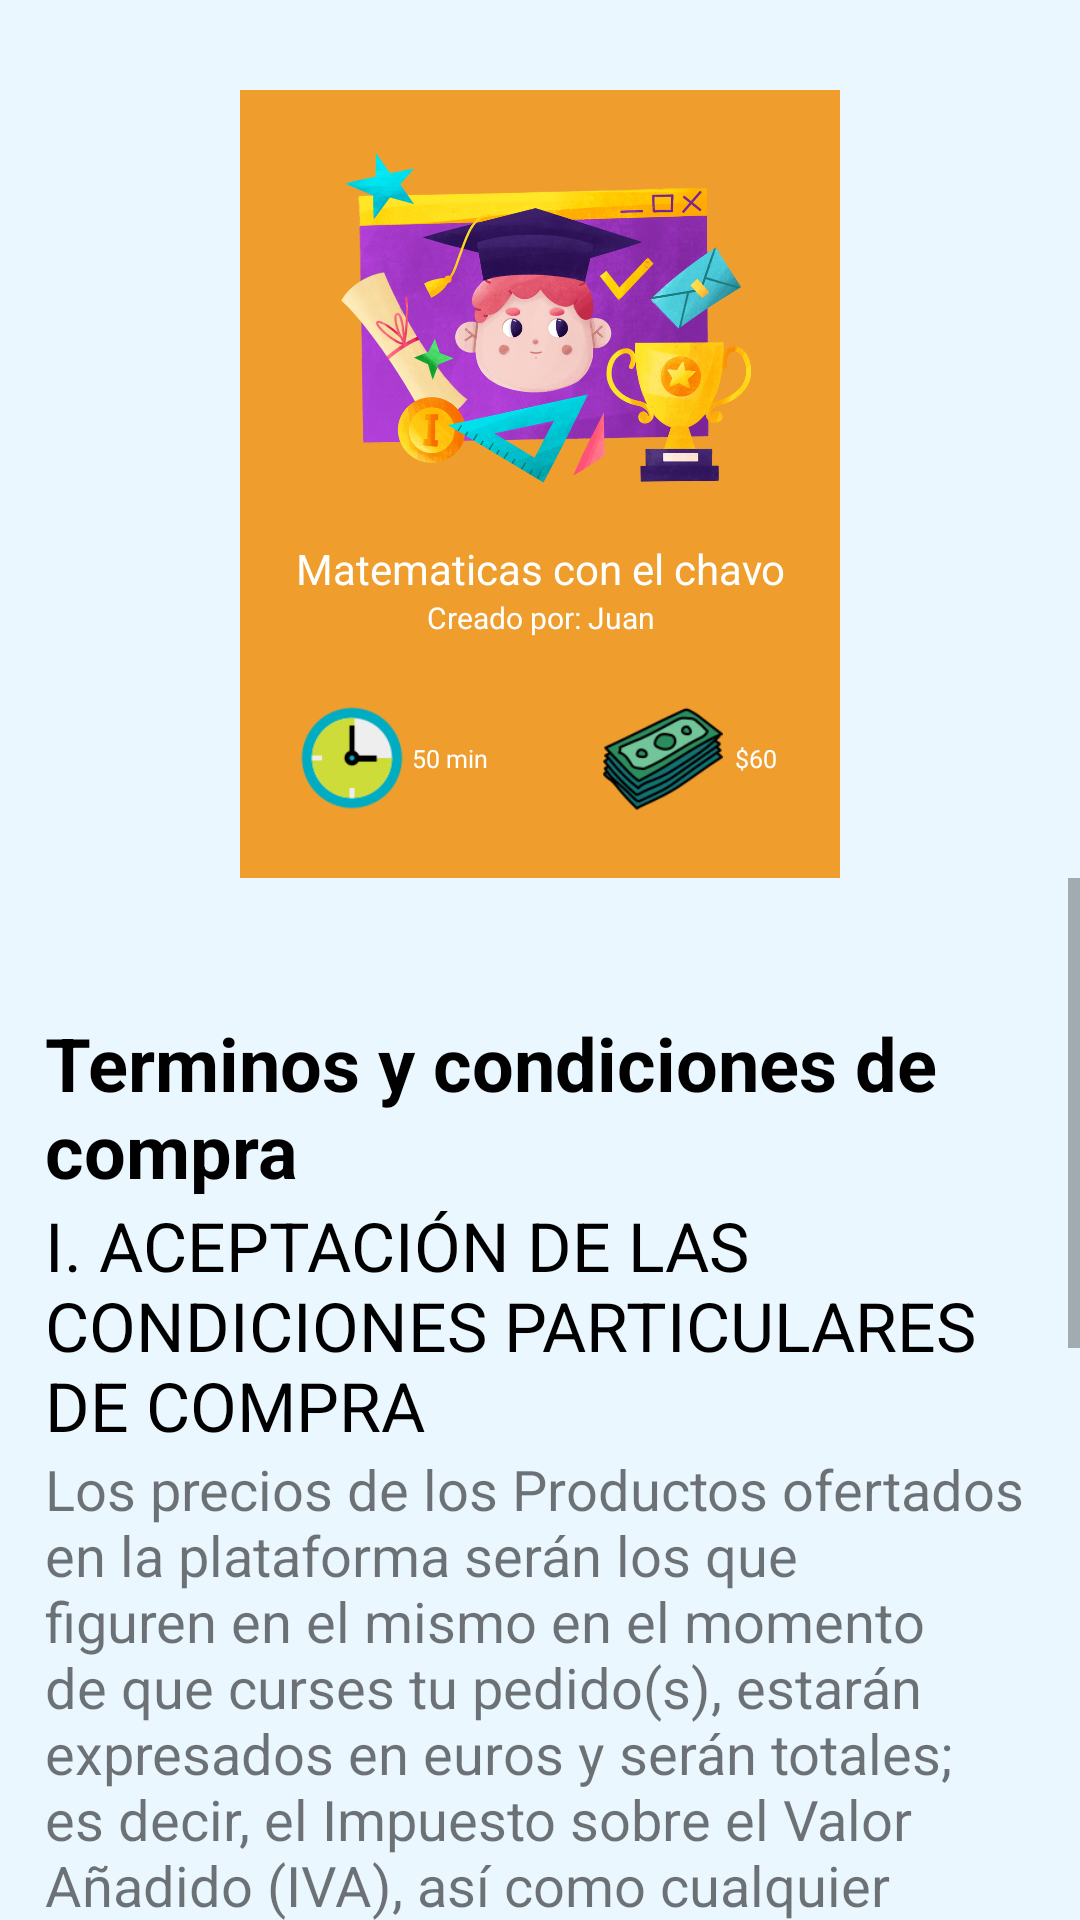

Where to tap for icons on this 1080 x 1920 app screen, as (x,y):
money: (663,759)
time: (352,758)
